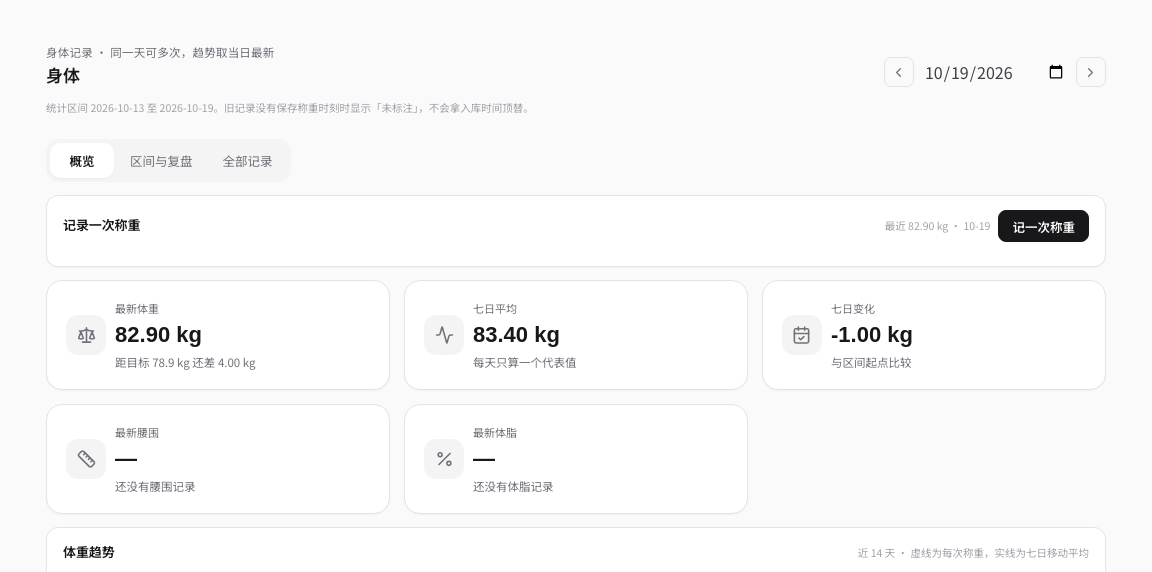
Test: renders the nine history columns and same-day badges
This screenshot has width=1152, height=572.
Step 1. Click the tab "全部记录" → click(248, 161), box [209,143,287,178]
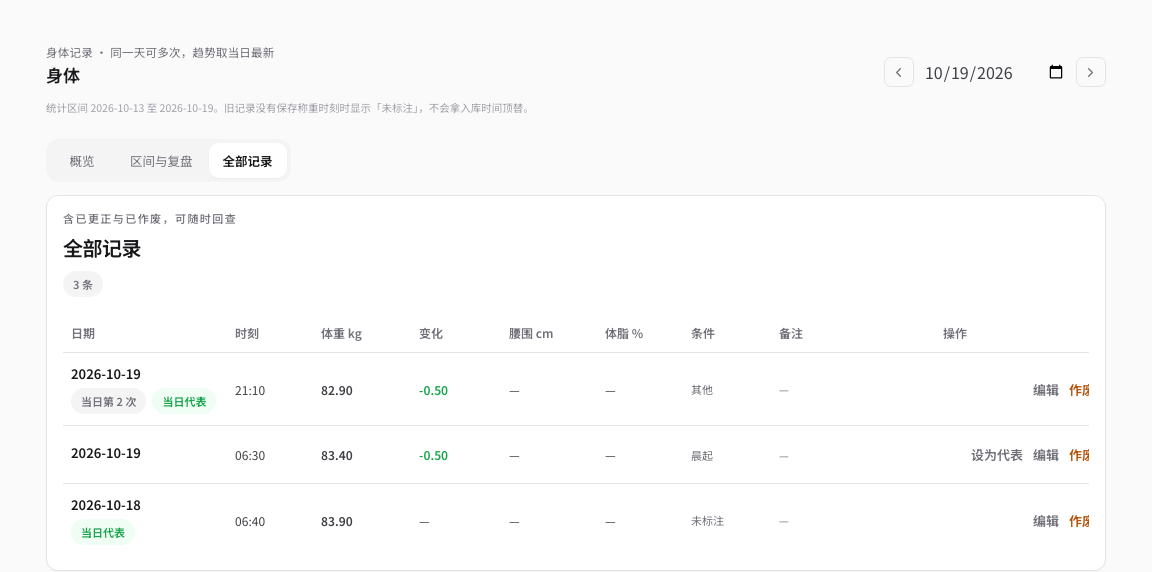
Now the element with class "body-row" shows "当日第 2 次", box [63,353,1089,426]
Now the element with class "body-row" shows "当日代表", box [162,393,206,409]
Now the element with class "body-row" shows "-0.50", box [419,381,448,398]
